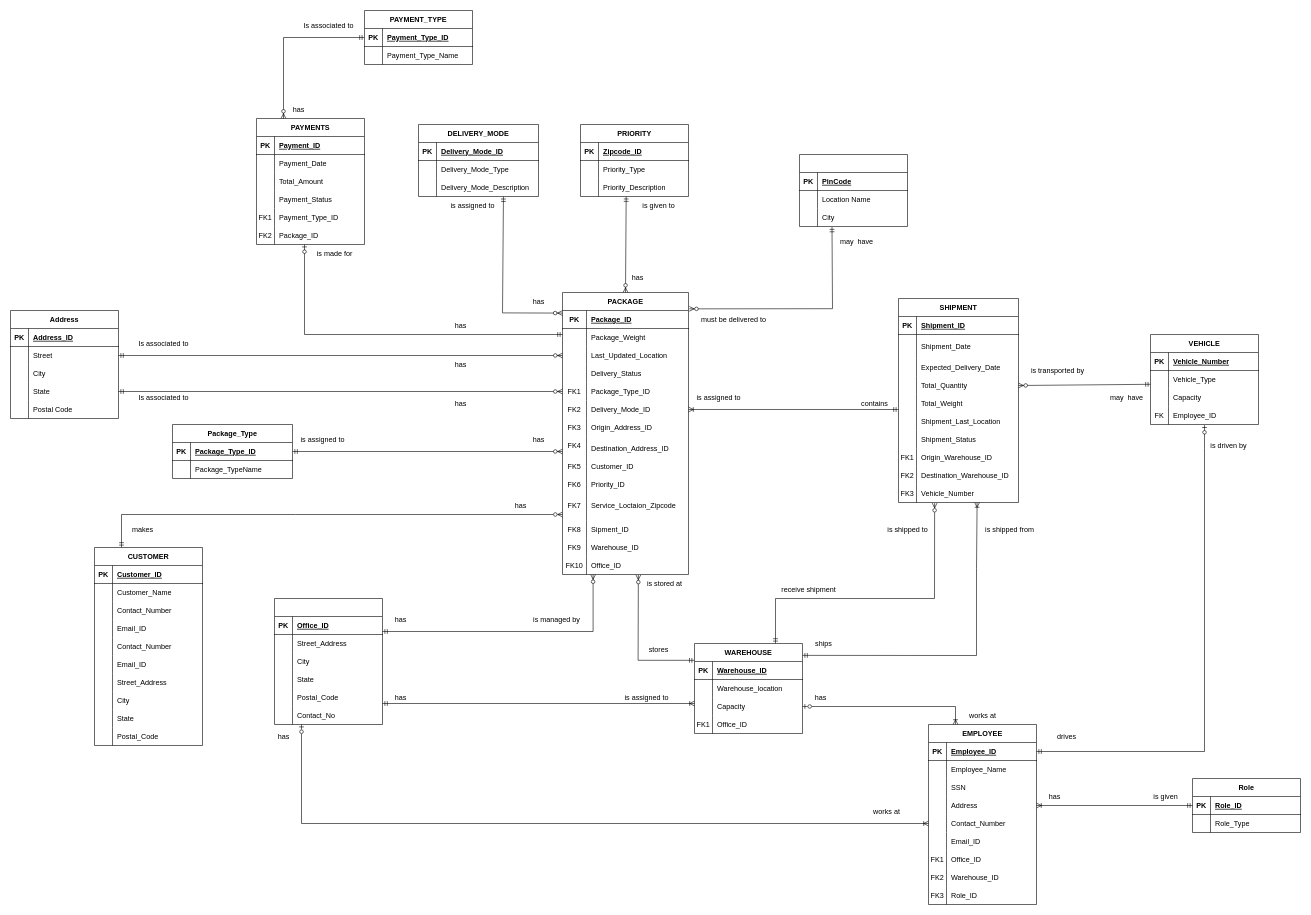
This 1311x915 diagram has some shape labels left out. Each missing label, with the box of its shape:
OFFICES: (274, 598, 382, 724)
SERVICE_LOCATION: (799, 154, 908, 226)
